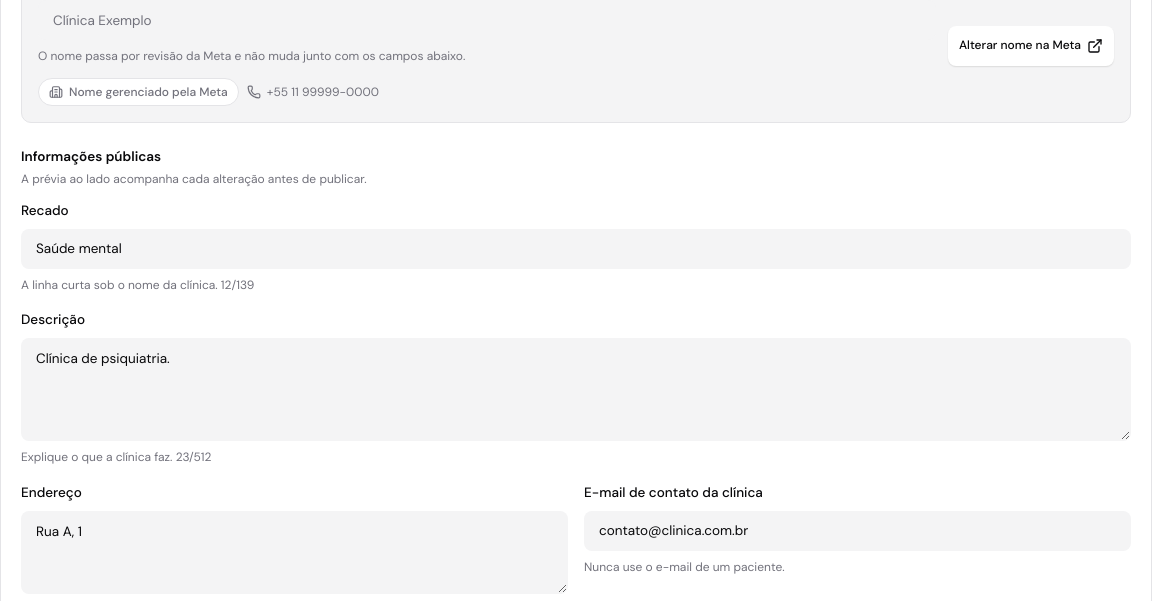
Test case: salvar › começa desabilitado e só habilita depois de uma alteração de verdade
(page scrolled)
Replace the text in the field labelled "Recado" with "Outro recado" at (576, 249), box [21,229,1131,269]
(page scrolled)
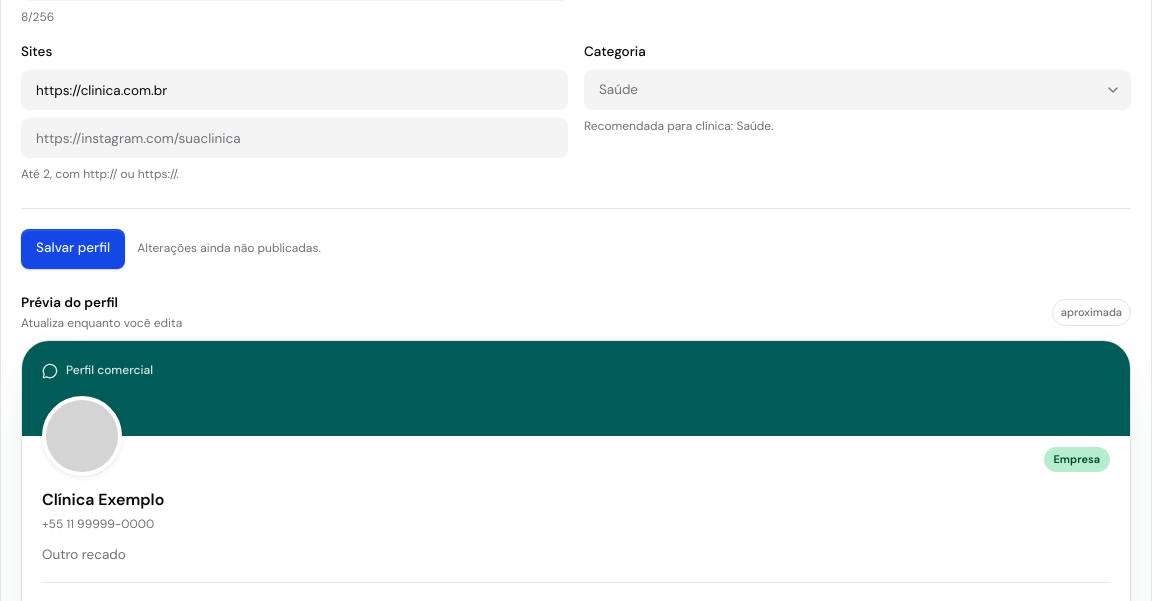
Expected: the button "Salvar perfil" is enabled, [21,229,125,269]
